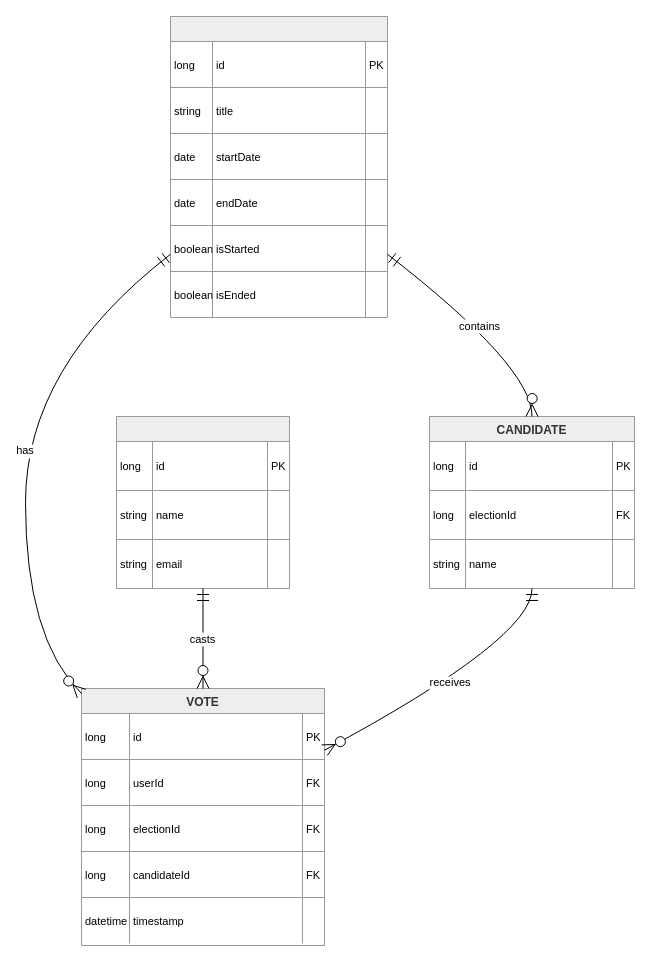
Image size: 651x962. Some labels were removed from this diagram. The shapes that lost their labels are listed below. From the top down, each one's box as (x1, y1, x2, y2) in pixels, then its label:
(170, 16, 388, 318): ELECTION
(116, 416, 290, 588): USER
